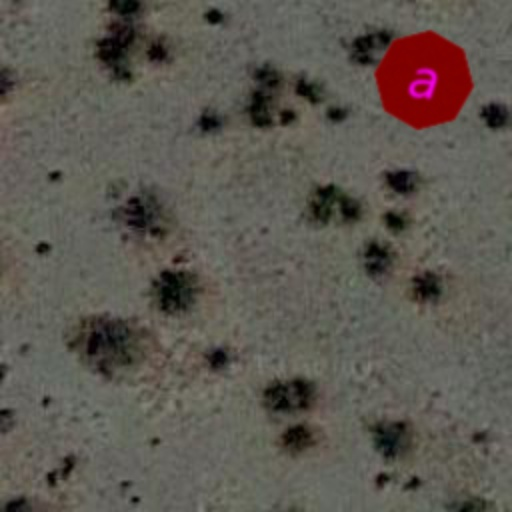octagon: (366, 22, 482, 138)
